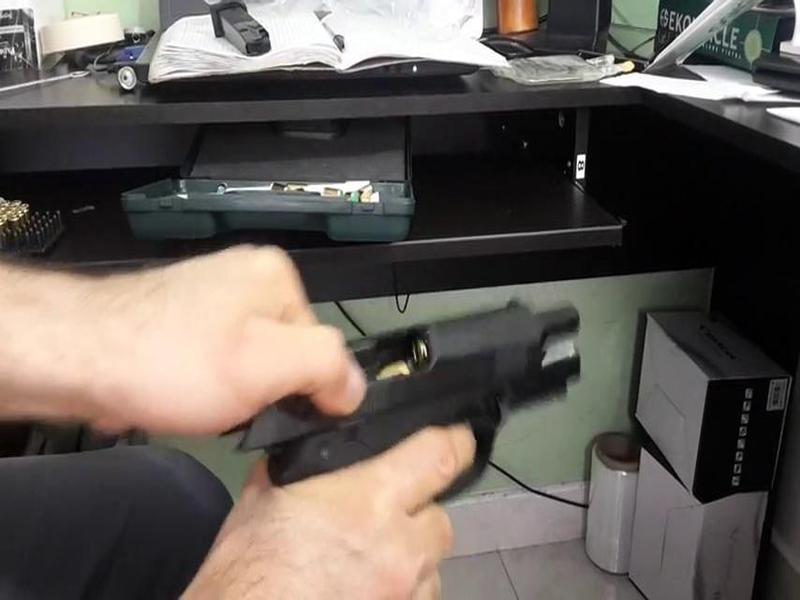Pistola: (228, 297, 584, 513)
